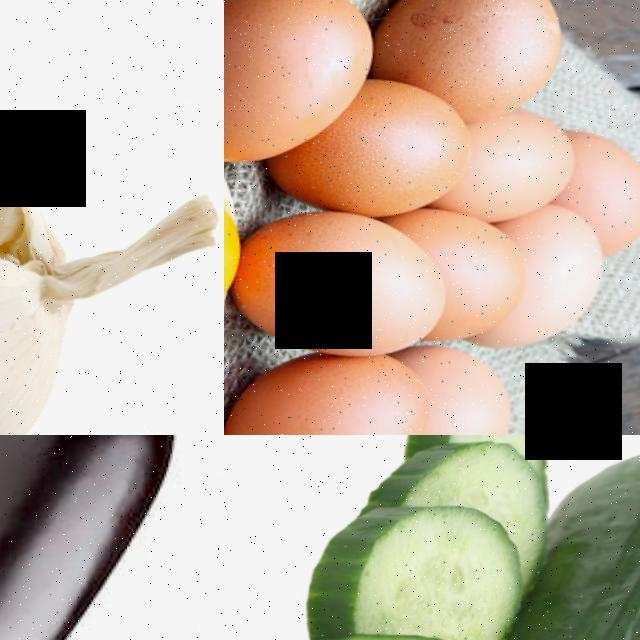cucumber: (536, 435, 640, 640)
egg_: (235, 194, 452, 369), (224, 0, 390, 172), (224, 337, 447, 435), (336, 81, 481, 212), (368, 0, 568, 88), (423, 203, 537, 342), (517, 204, 618, 345), (462, 100, 585, 212), (421, 343, 530, 435), (575, 114, 640, 242), (224, 178, 254, 328)
eggplant: (0, 435, 224, 640)
garlic: (0, 63, 165, 435)
